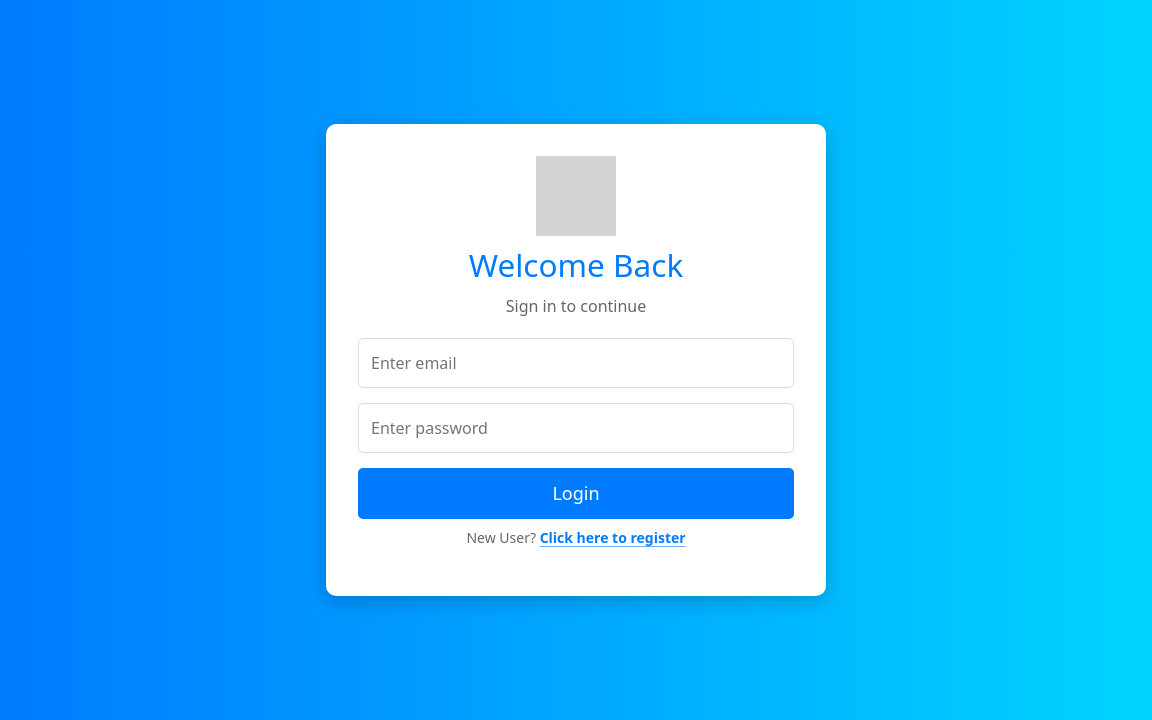
Test: Authentication Tests › should show an error for non-existing email
Type "nonexistent@example.com" into the field with placeholder "Enter email" at (576, 363), box top-left (358, 338), bottom-right (794, 388)
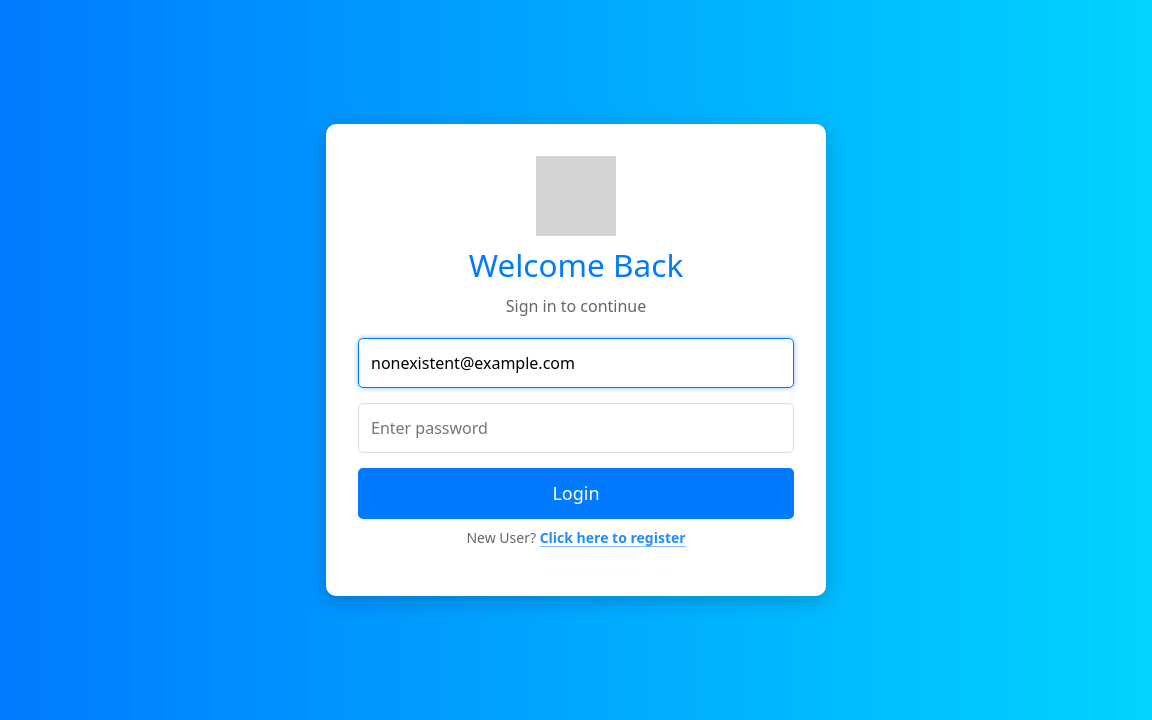
Type "Test@1234" into the password field with placeholder "Enter password" at (576, 428), box top-left (358, 403), bottom-right (794, 453)
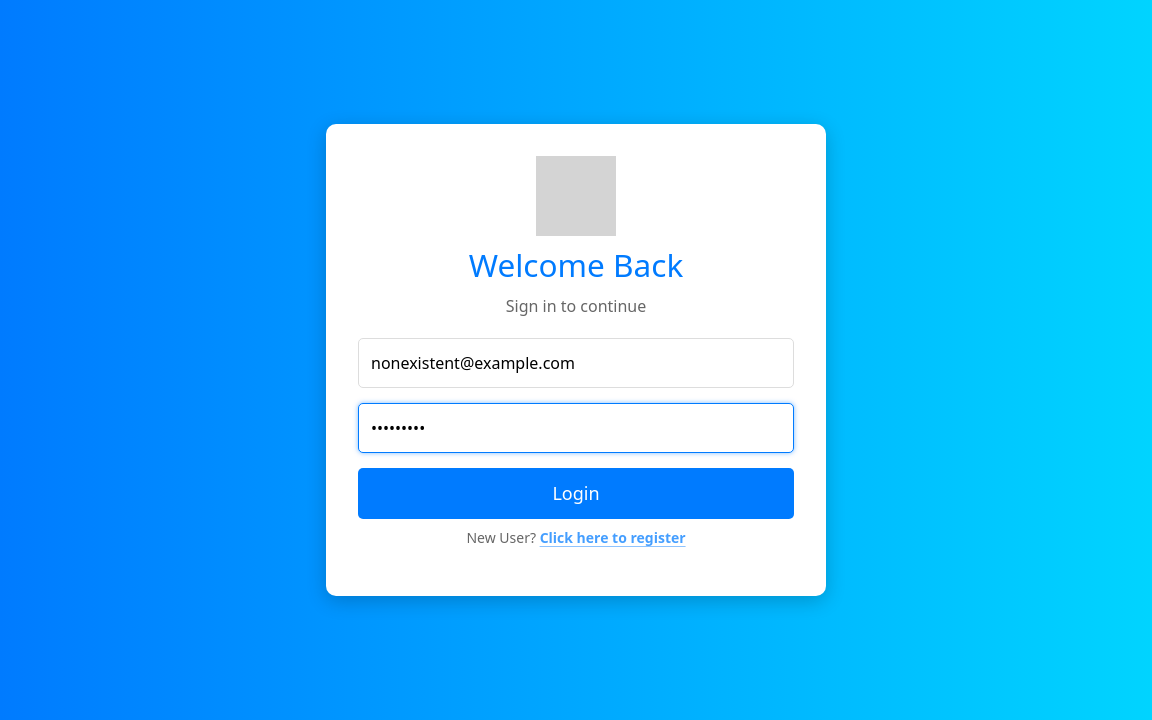
Click the submit button at (576, 494), box top-left (358, 468), bottom-right (794, 519)
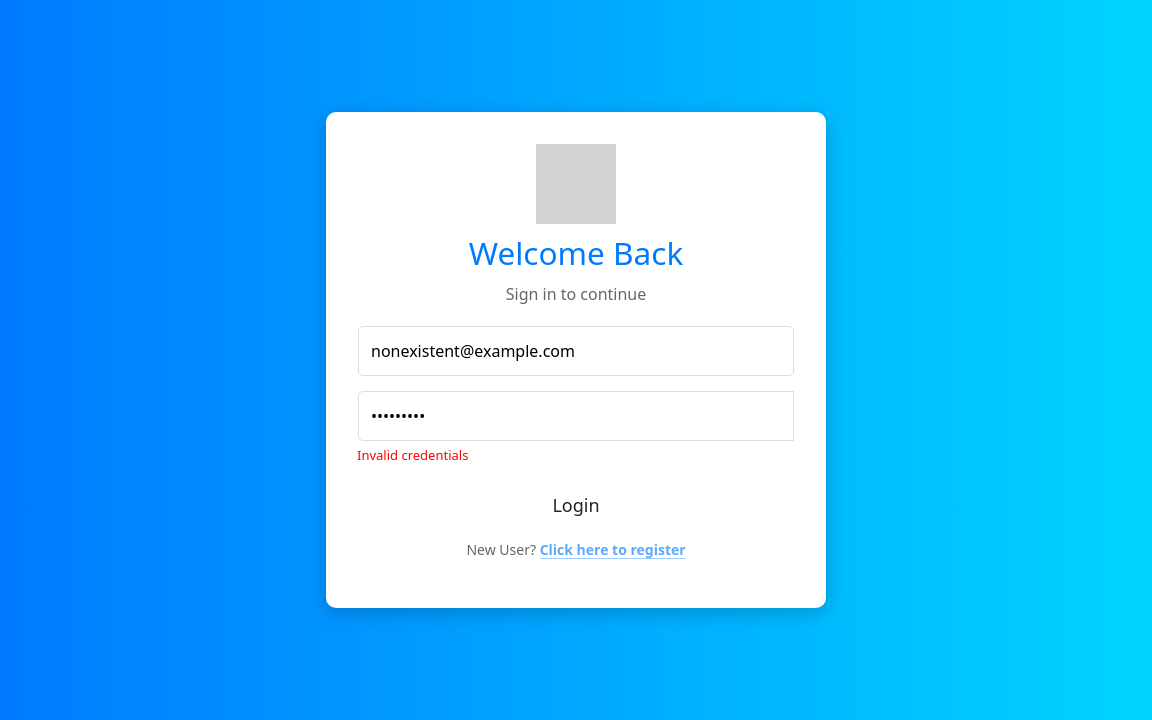
Expected: the text "Invalid credentials" is shown, top-left (357, 446), bottom-right (468, 465)
